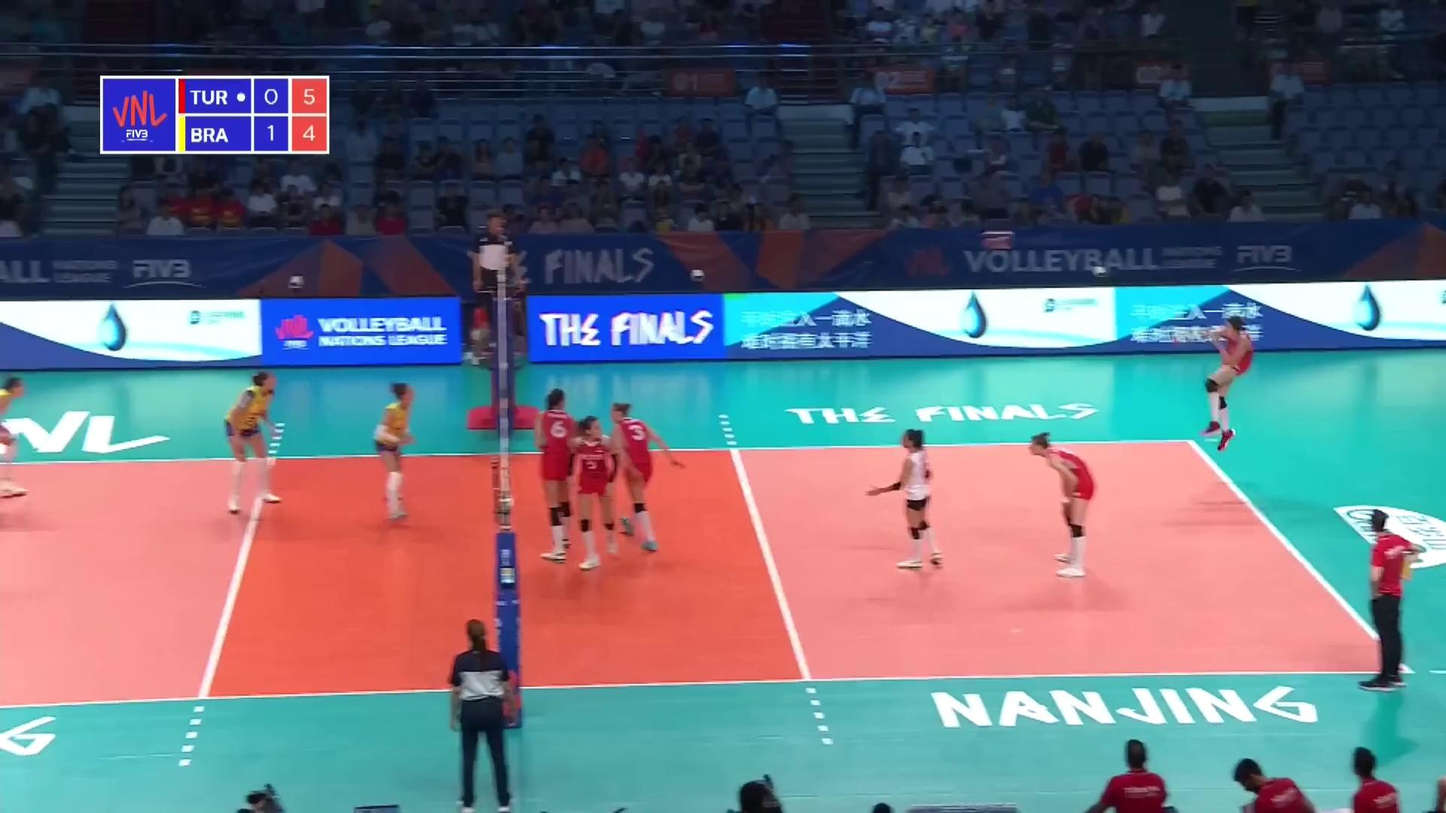player: (610, 402, 683, 553), (867, 433, 946, 571), (1028, 434, 1097, 576), (222, 367, 279, 514), (566, 416, 621, 566), (537, 389, 580, 561), (1199, 318, 1252, 451), (371, 382, 415, 523), (0, 375, 30, 499)
refree: (447, 618, 517, 813), (468, 219, 522, 346)
